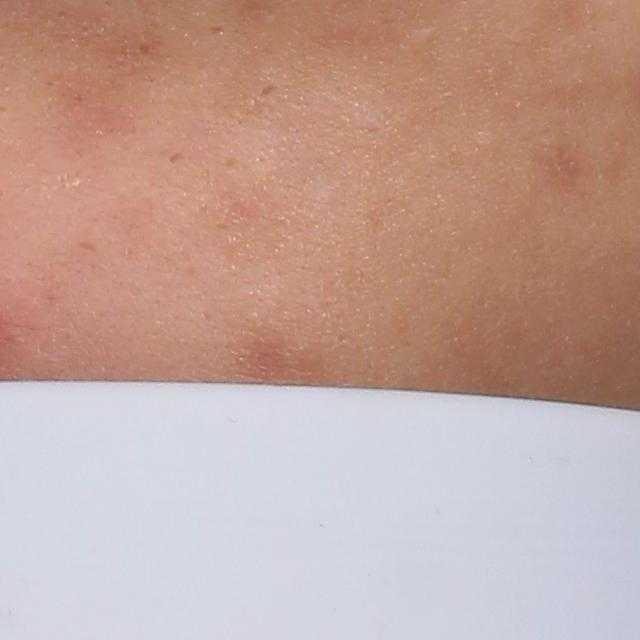atrophic_scar: (73, 238, 101, 257), (257, 81, 281, 102), (209, 25, 226, 36)
